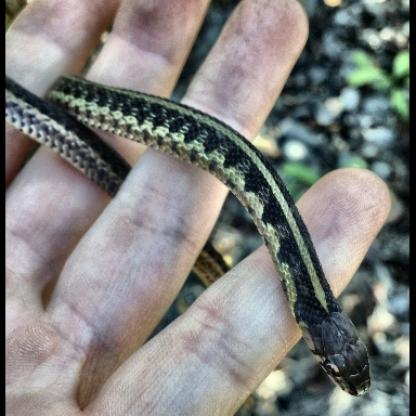Snake: (51, 65, 382, 408)
